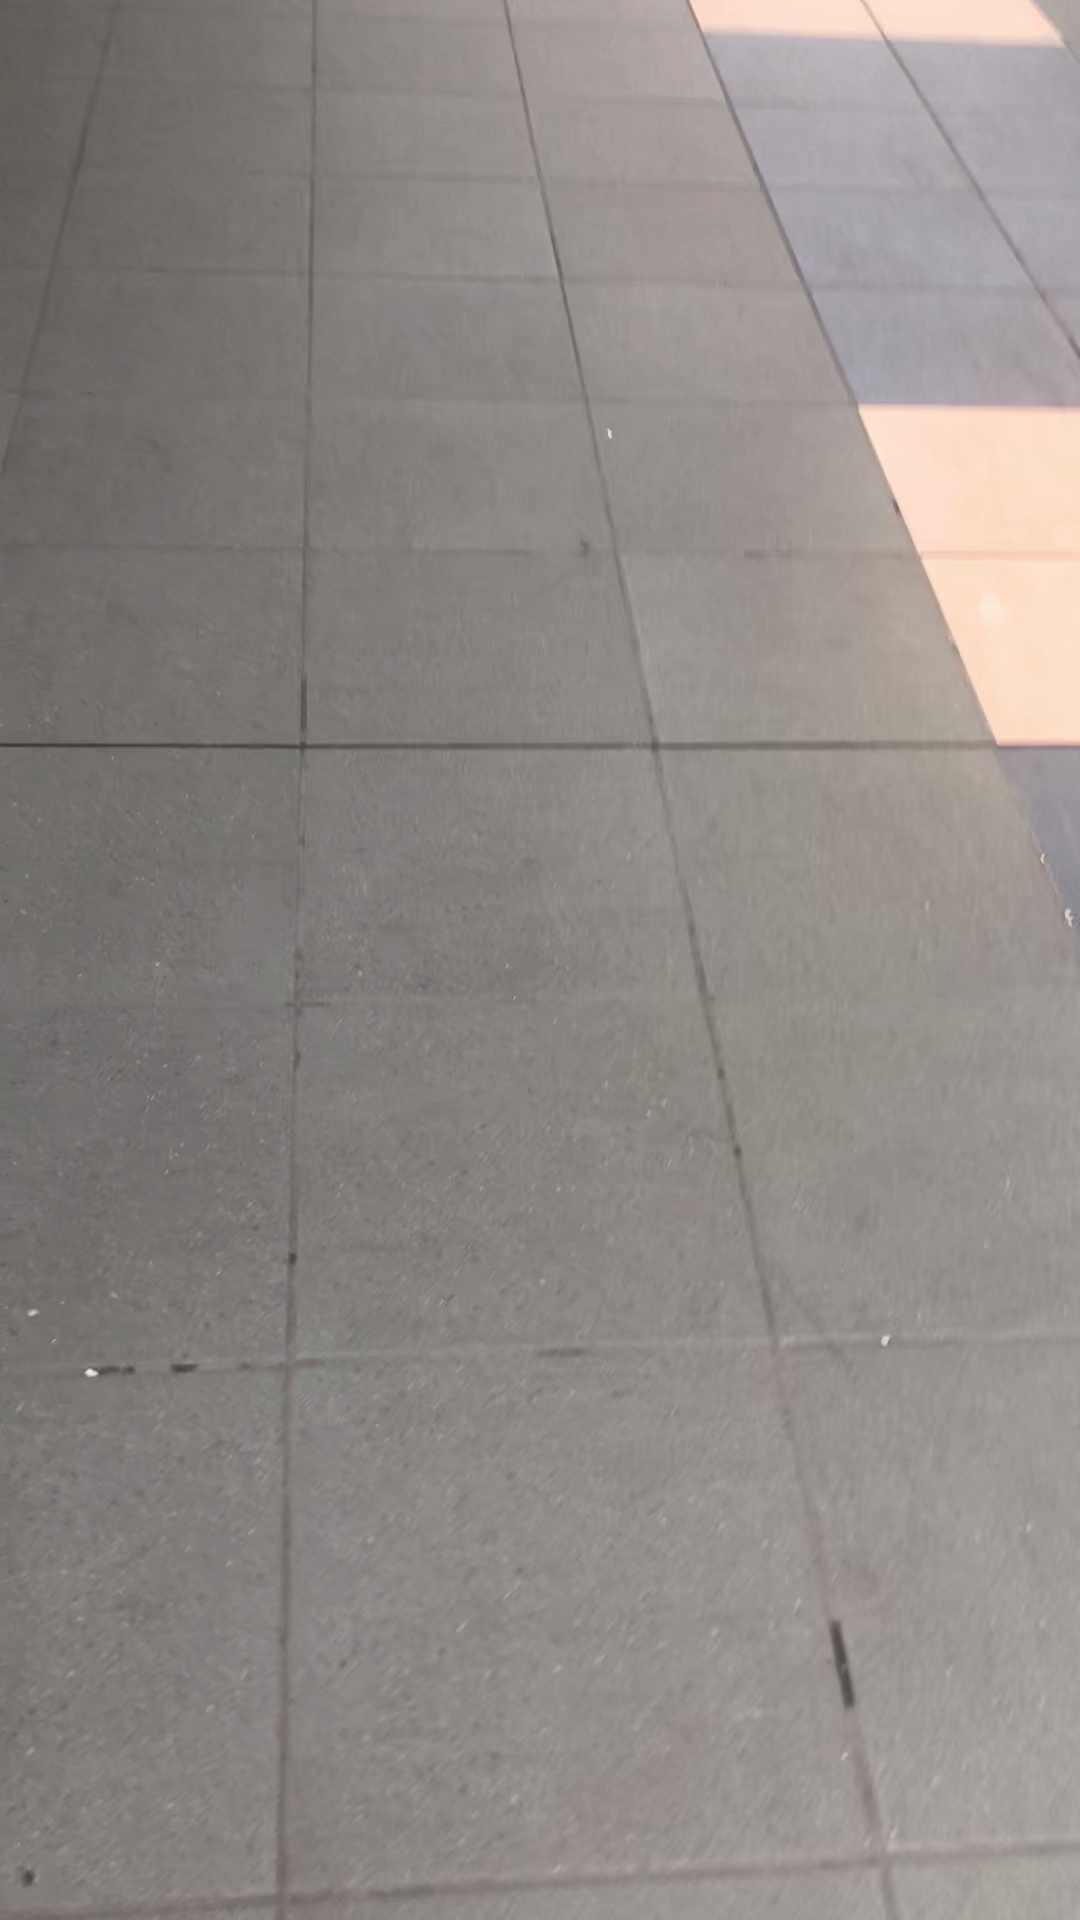Stain: (65, 1332, 224, 1402), (818, 1580, 878, 1729), (597, 410, 632, 446)
